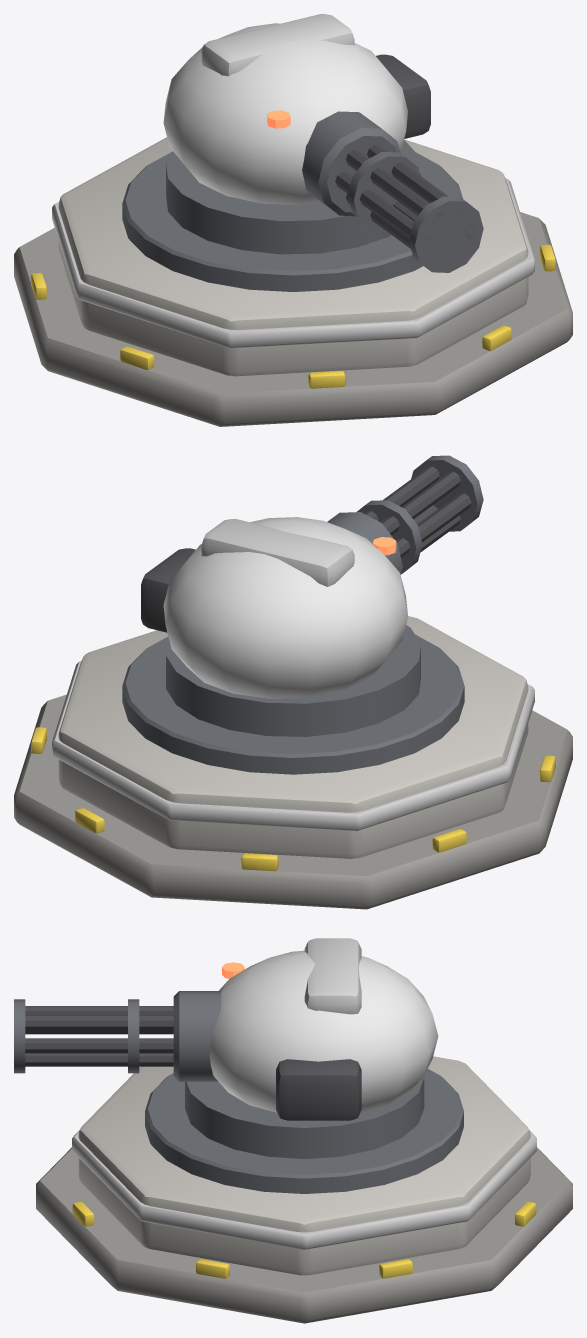
The model's file is cannon_gatling.glb.
3 views of the same model, one above another, from view 1: azimuth 30°, elevation 25°; view 2: azimuth 150°, elevation 25°; view 3: azimuth 270°, elevation 25° (orthographic). The views are drawn at different scales.
Parts seen in each view (by area): view 1: cannon_gatling, turret; view 2: cannon_gatling, turret; view 3: cannon_gatling, turret.
Boxes of the visible parts, x1,y1,x2,y2 form: cannon_gatling: [14, 137, 572, 426]; turret: [163, 14, 483, 272]; cannon_gatling: [14, 616, 572, 909]; turret: [141, 455, 483, 736]; cannon_gatling: [36, 1056, 572, 1323]; turret: [14, 938, 438, 1158].
Size of the model in its own units: 1.88 by 0.96 by 1.96.
